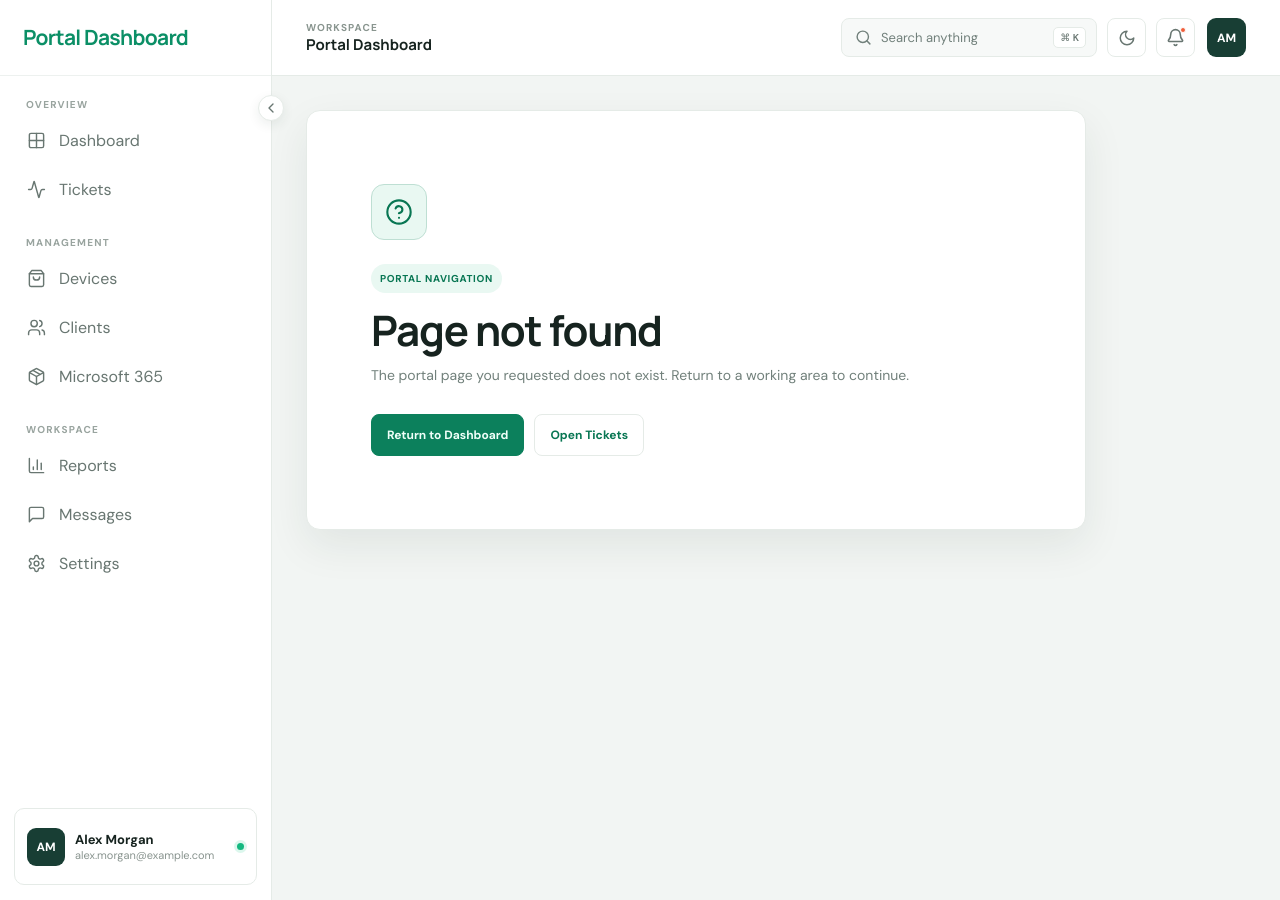
Test: App routing › renders an in-portal not-found page with a working return action
The width and height of the screenshot is (1280, 900).
Expected: the heading "Page not found" is shown, [371,307,662,354]
Expected: the navigation bar named "Primary navigation" is shown, [0,76,271,808]
Click the link "Return to Dashboard" at (448, 435), box [371,414,524,456]
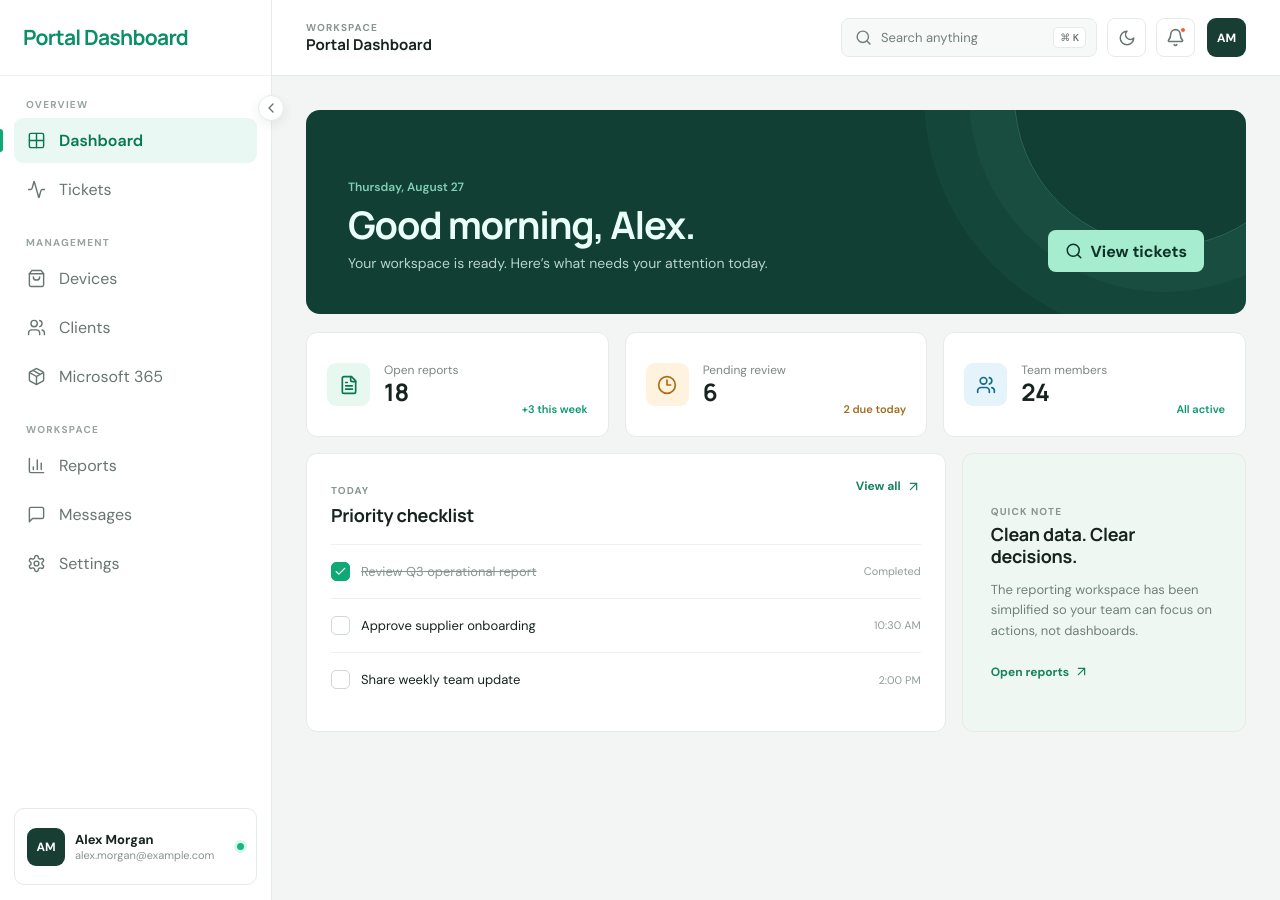
Expected: the heading "Good morning, Alex." is shown, [348,198,695,250]
